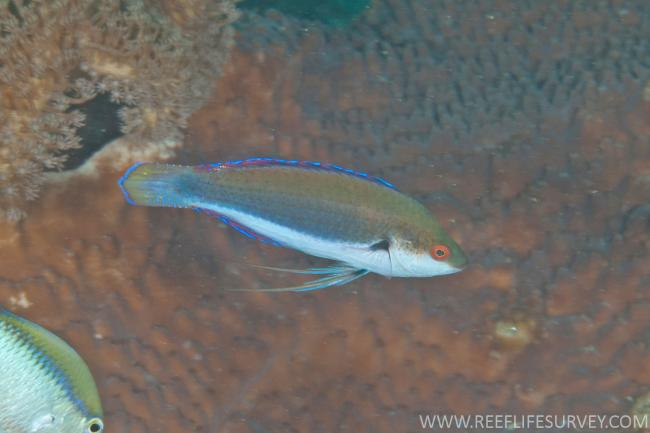fish: (120, 159, 468, 293)
